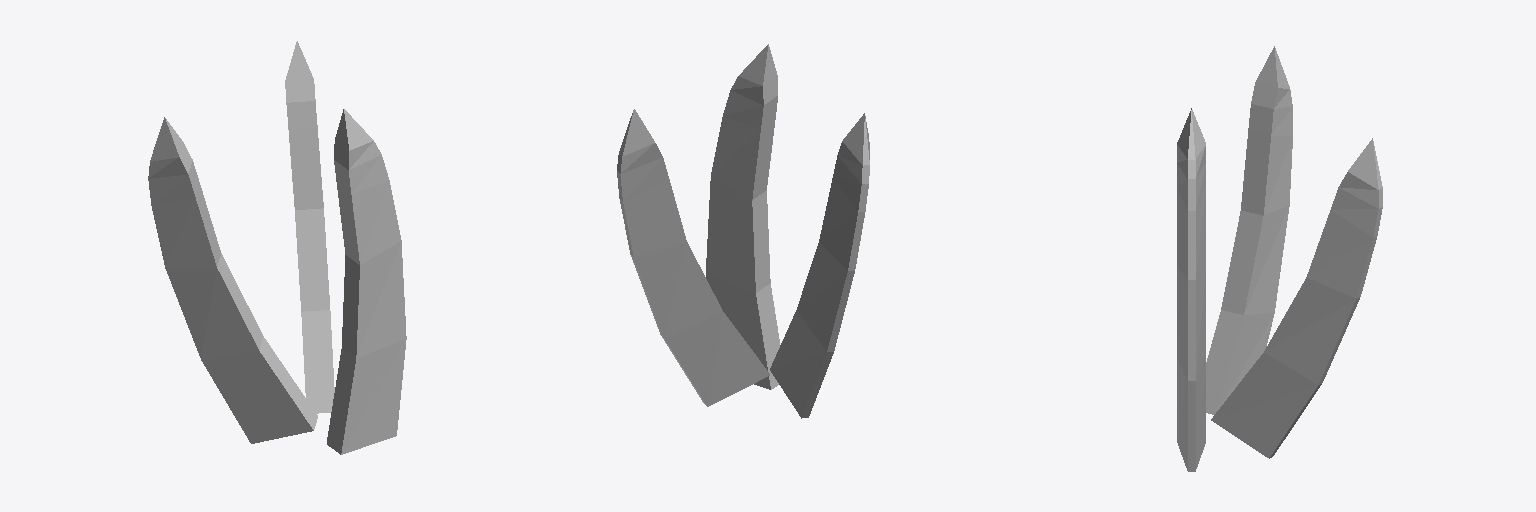
File: needle.obj
3 views of the same model, side by side, from view 1: azimuth 30°, elevation 25°; view 2: azimuth 150°, elevation 25°; view 3: azimuth 270°, elevation 25° (orthographic).
Visible parts, largest first — view 1: pCube5; view 2: pCube5; view 3: pCube5.
Part boxes in pixels (left/top/right/bottom): pCube5: left=148, top=41, right=406, bottom=454; pCube5: left=617, top=44, right=869, bottom=418; pCube5: left=1177, top=46, right=1382, bottom=471.
Size of the model in its own units: 0.6423 by 0.996 by 0.5486.